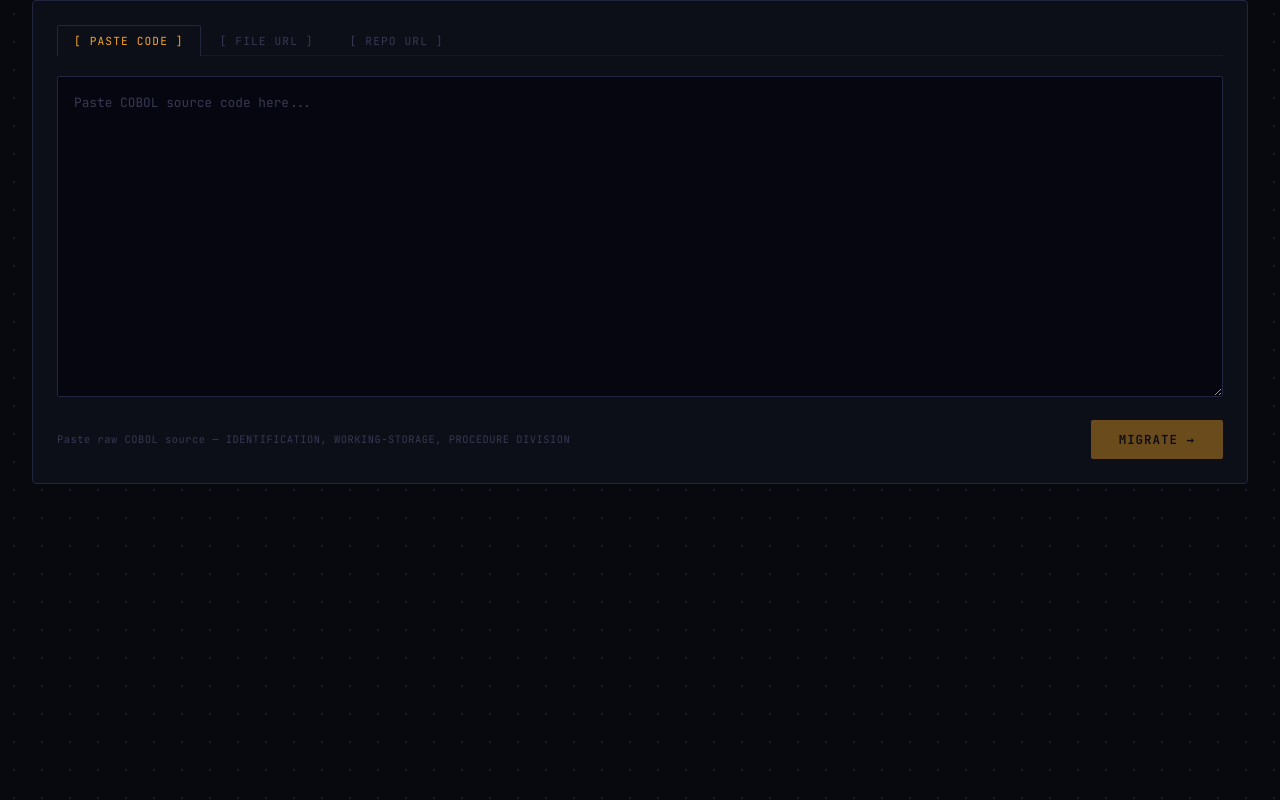
Test: InputPanel › switches to Repo URL tab
Step 1. Click the button "Repo URL" → (397, 40), box x1=333 y1=25 x2=461 y2=56
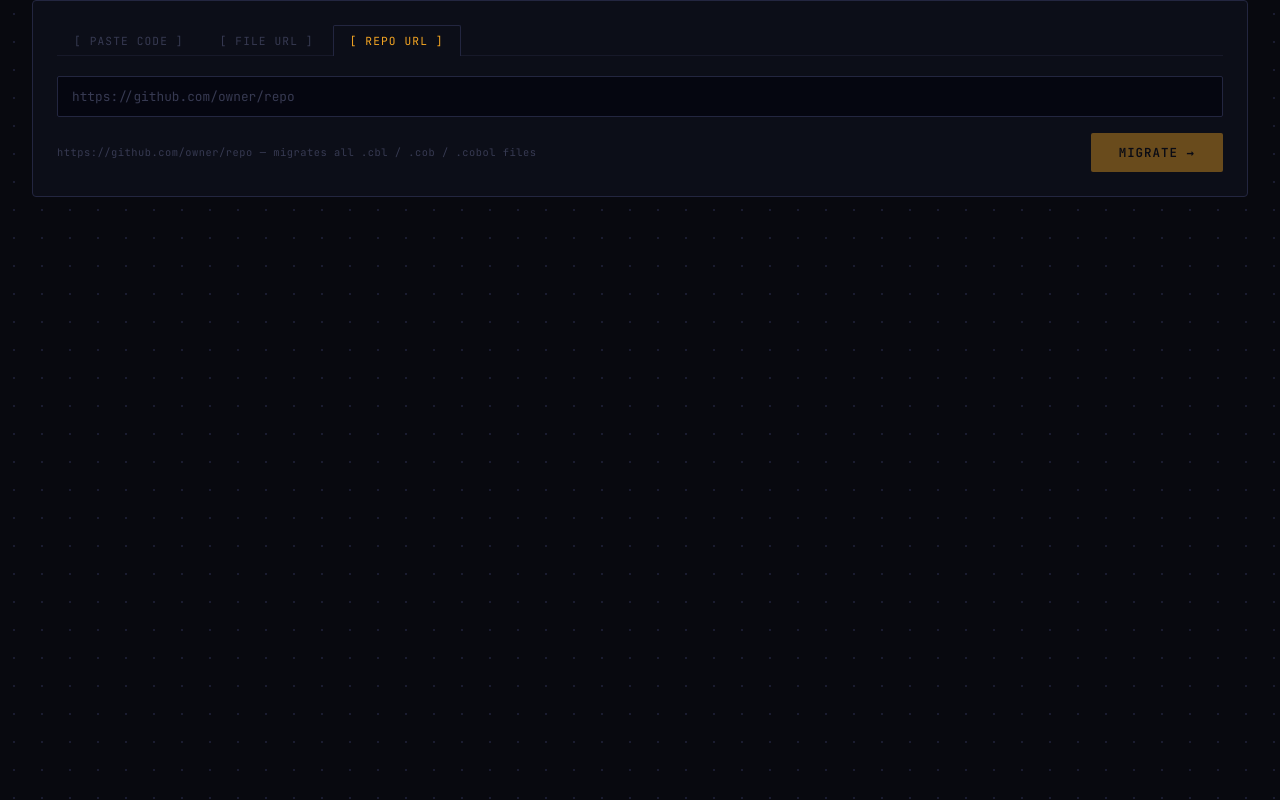
Expected: the field with placeholder "https://github.com/owner/repo" is shown, x1=57 y1=76 x2=1223 y2=117
